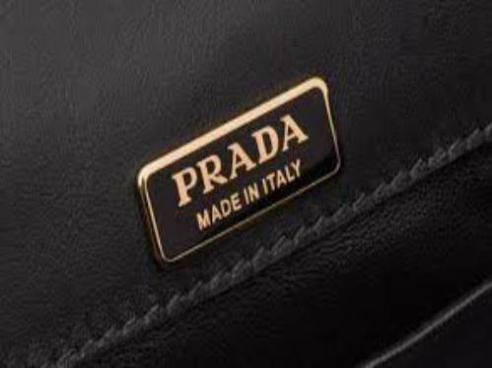PRADA: (175, 101, 308, 205)
